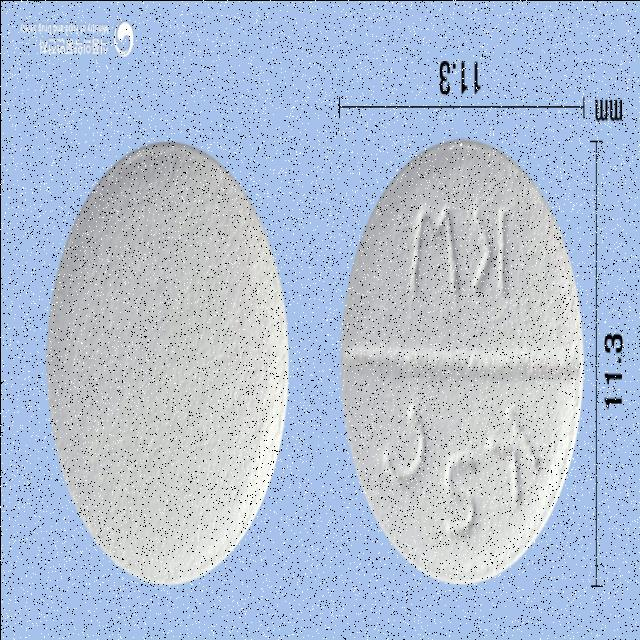K-Sacin: (339, 138, 583, 586)
